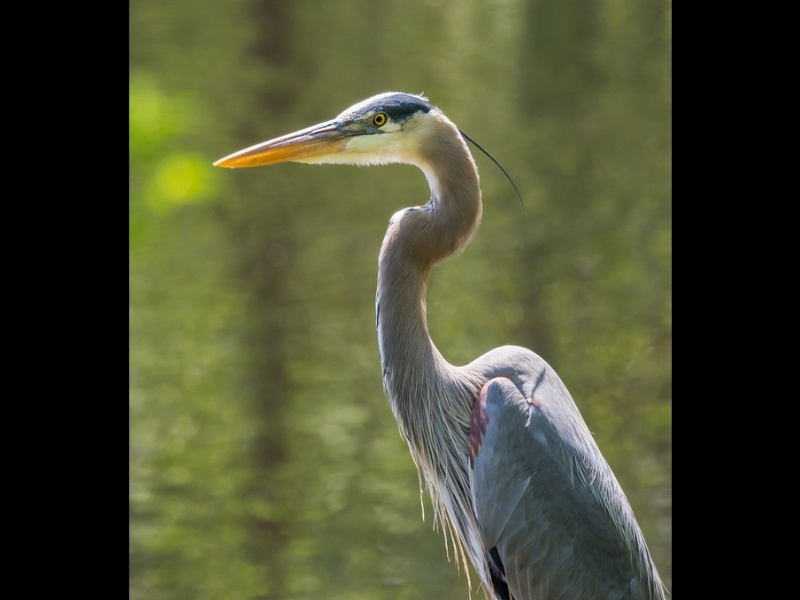heron: (209, 90, 659, 591)
